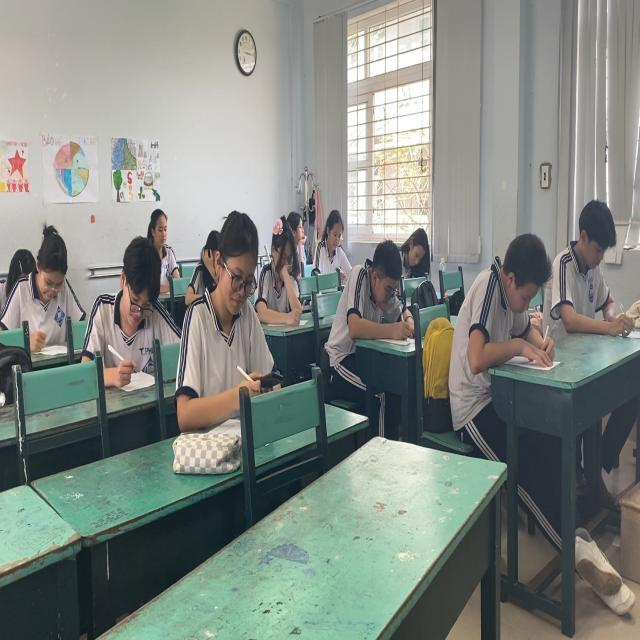not_cheating: (450, 240, 538, 402), (194, 223, 265, 388), (5, 219, 83, 351), (93, 237, 168, 371), (552, 209, 622, 344), (334, 240, 409, 337), (262, 209, 303, 323), (145, 202, 180, 288), (314, 202, 346, 284), (400, 226, 435, 268)
